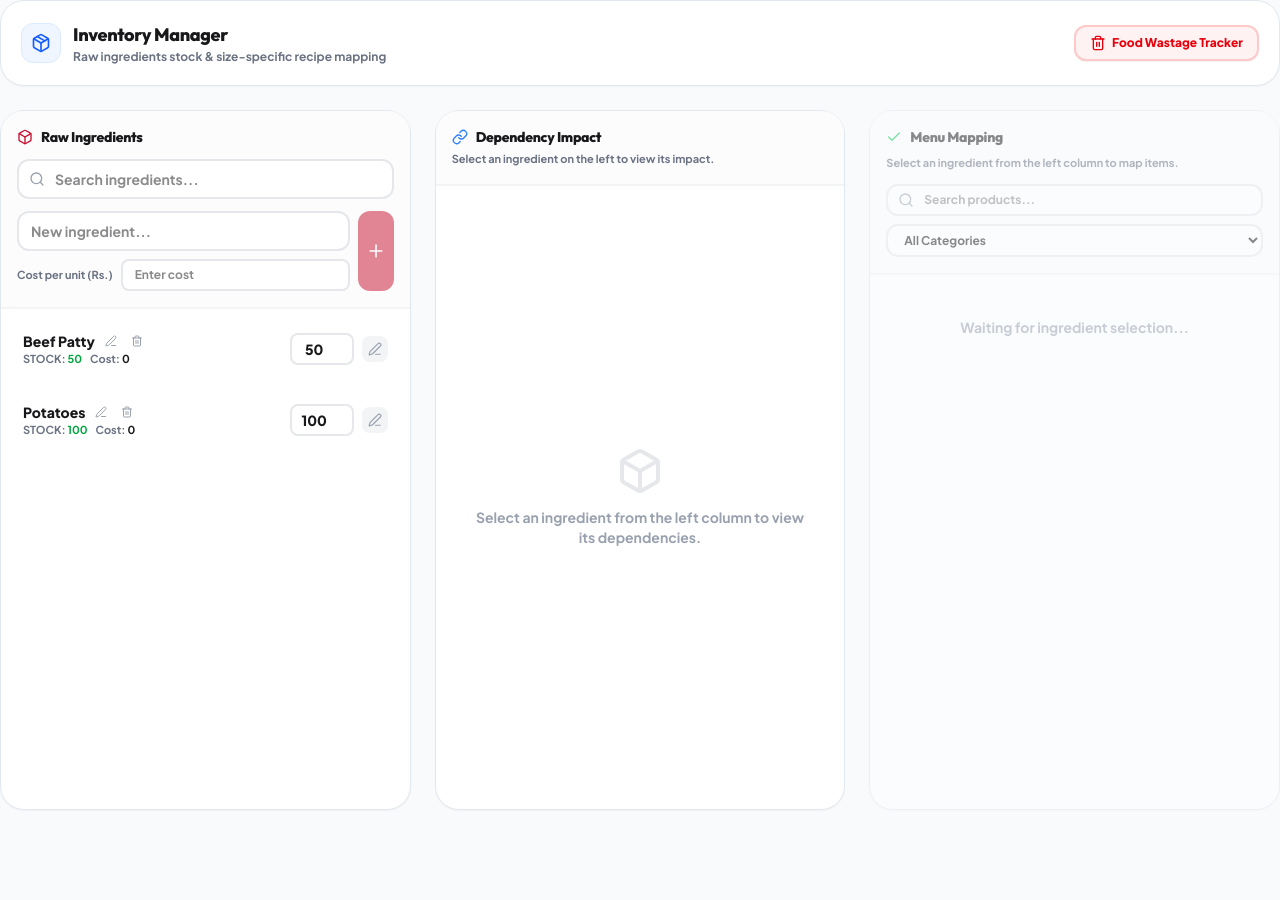
InventoryManager › filters ingredients by search term
Step 1. Type "Beef" into the field with placeholder "Search ingredients..." → (205, 179), box [17, 159, 394, 199]
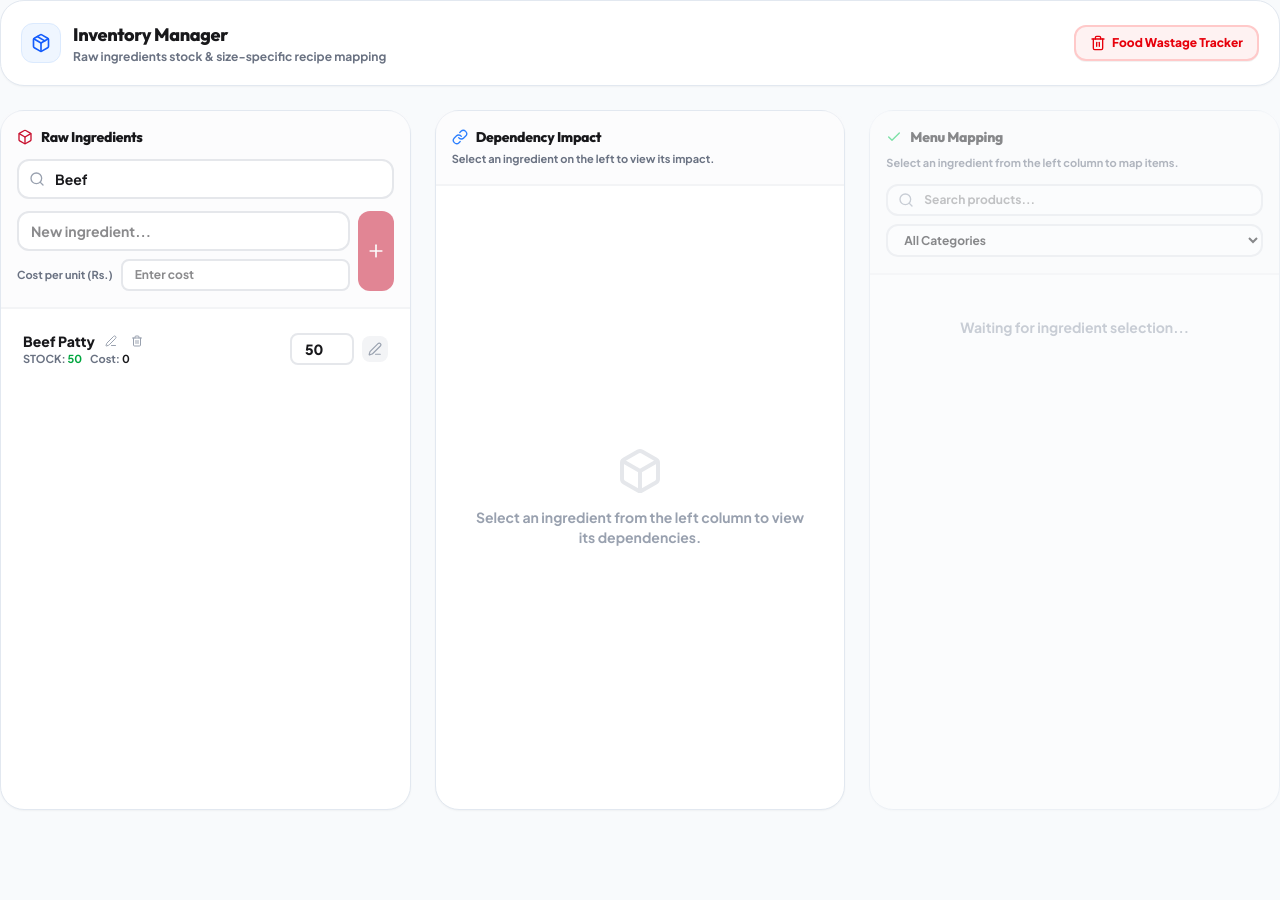
Check: the text "Beef Patty" is shown, box [23, 331, 95, 351]
Check: the text "Potatoes" is gone
